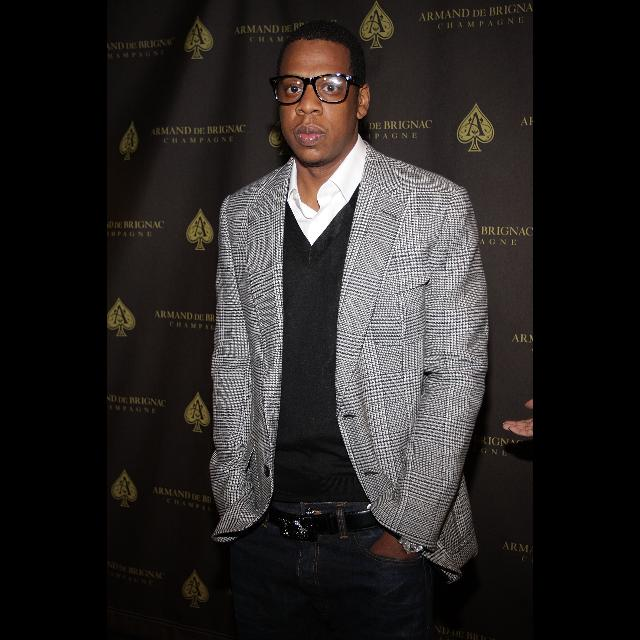glasses: (274, 73, 356, 105)
